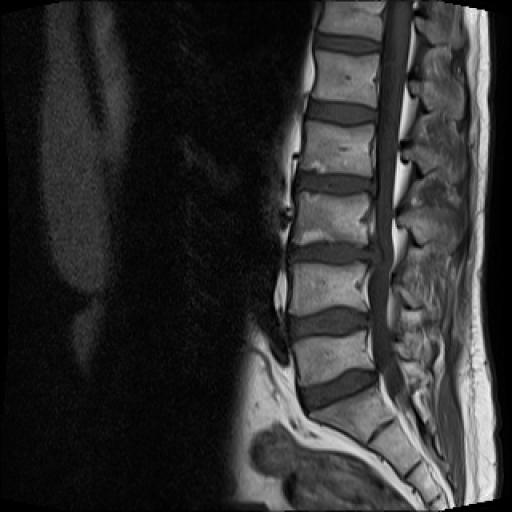L1: (311, 48, 379, 109)
L2: (301, 121, 376, 177)
L3: (291, 190, 369, 248)
L4: (289, 261, 368, 318)
L5: (292, 330, 374, 387)
S1: (309, 387, 394, 445)
